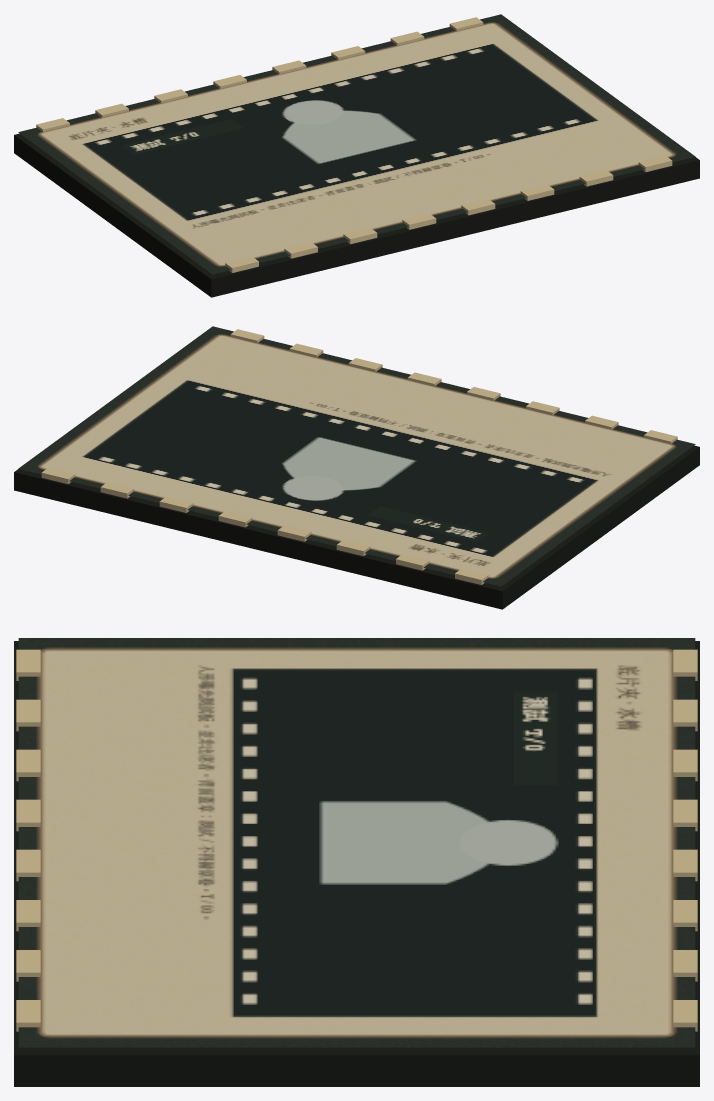
3 views of the same model, one above another, from view 1: azimuth 30°, elevation 25°; view 2: azimuth 150°, elevation 25°; view 3: azimuth 270°, elevation 25° (orthographic). The views are drawn at different scales.
Parts seen in each view (by area): view 1: b-t00; view 2: b-t00; view 3: b-t00.
Boxes of the visible parts, left/top/right/bottom form: b-t00: left=14, top=14, right=699, bottom=297; b-t00: left=14, top=326, right=699, bottom=609; b-t00: left=14, top=638, right=699, bottom=1086.
Size of the model in its own units: 0.3 by 0.014 by 0.21.
3 materials, 1 textured.
